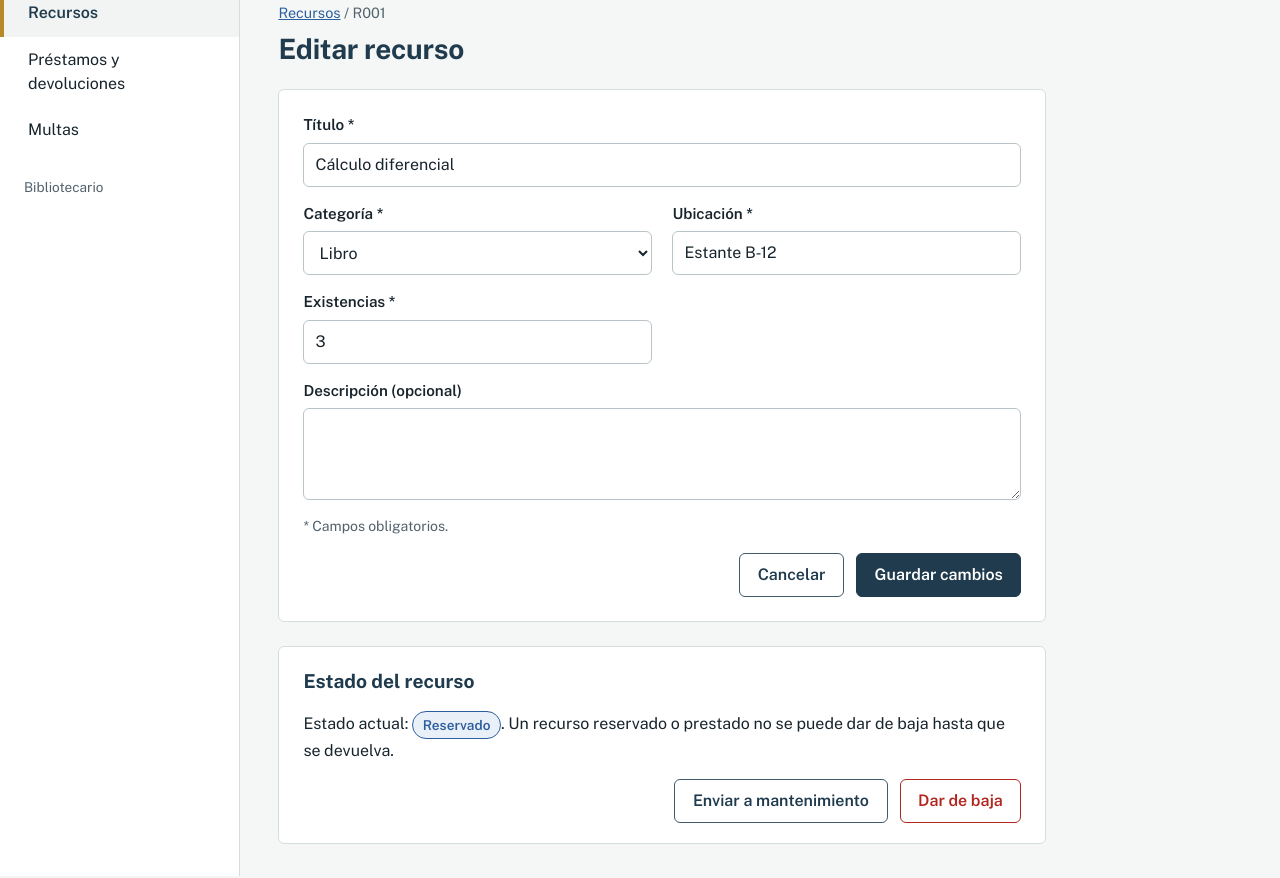
Test case: Recursos (CU03) › un 409 del servidor al dar de baja se muestra tal cual
(page scrolled)
Click the button "Dar de baja" at (960, 800), box [900, 778, 1021, 822]
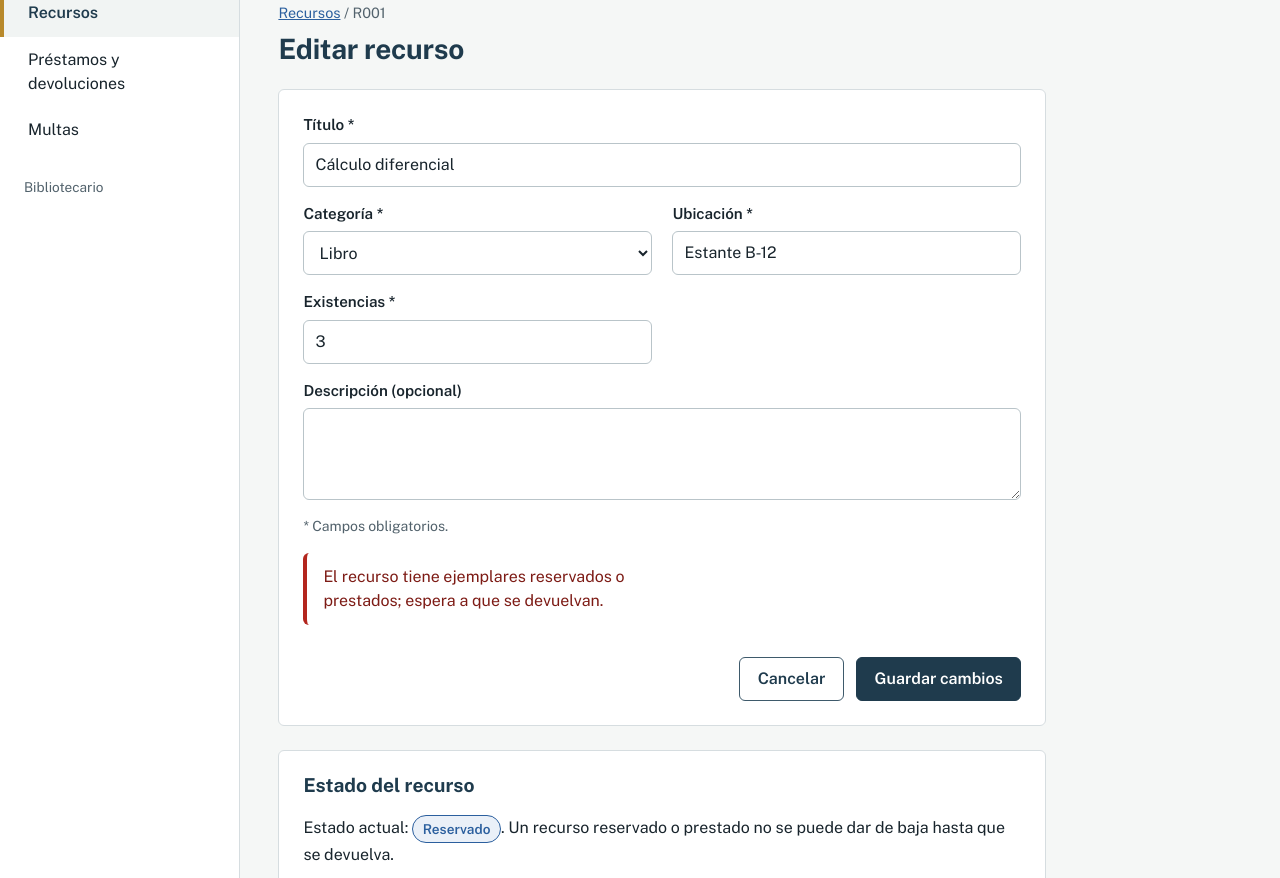
Check: the message shows "espera a que se devuelvan", box [323, 566, 624, 610]
